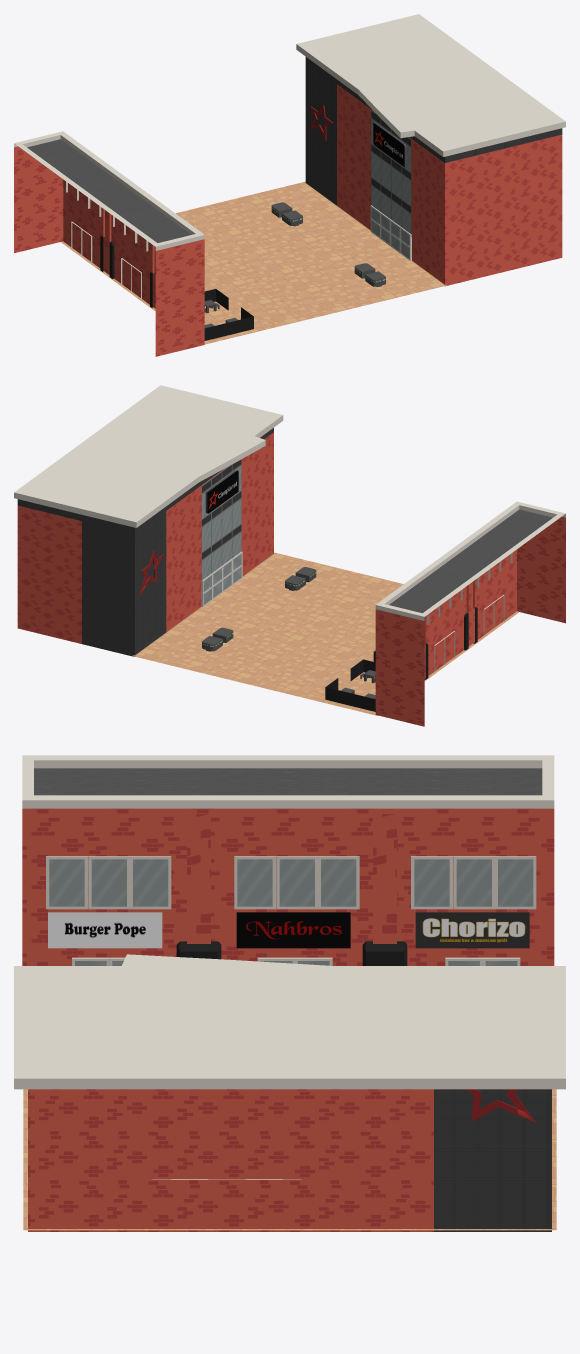
The model's file is Second Module.fbx.
3 renders of one model, top to bottom at view 1: azimuth 30°, elevation 25°; view 2: azimuth 150°, elevation 25°; view 3: azimuth 270°, elevation 25°, orthographic. The views are drawn at different scales.
Parts seen in each view (by area): view 1: Second Module; view 2: Second Module; view 3: Second Module.
Part boxes in pixels (x1=…): Second Module: x1=14, y1=14, x2=565, y2=356; Second Module: x1=14, y1=385, x2=565, y2=726; Second Module: x1=14, y1=755, x2=565, y2=1231.
Size of the model in its own units: 1495 by 486 by 931.
